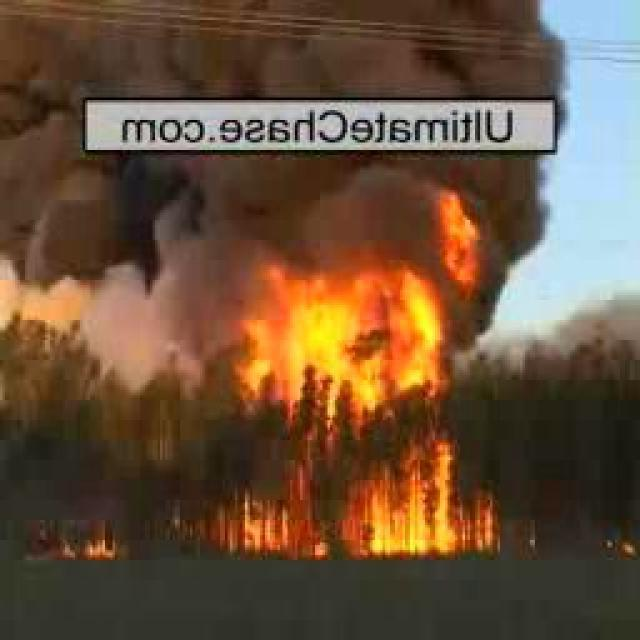Fire: (190, 423, 498, 557), (214, 262, 453, 407), (436, 197, 489, 287), (56, 524, 121, 560)
